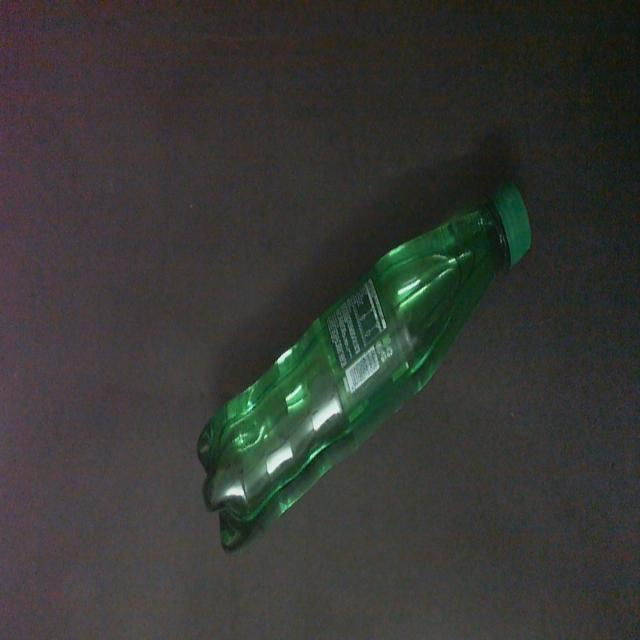non-defect: (194, 173, 536, 559)
